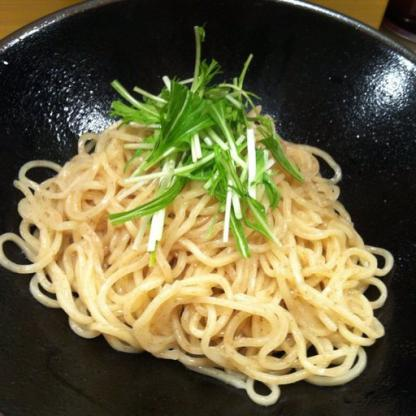Noodles: (0, 90, 393, 406)
